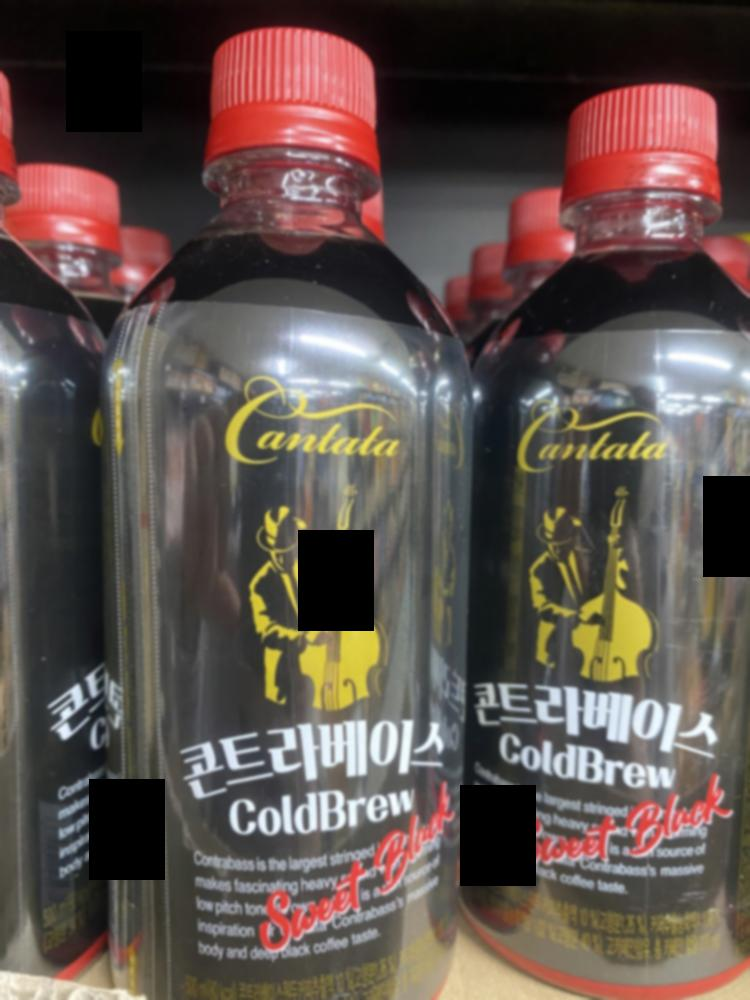contrabass_sweetblack: (107, 20, 468, 997), (473, 60, 749, 998)
